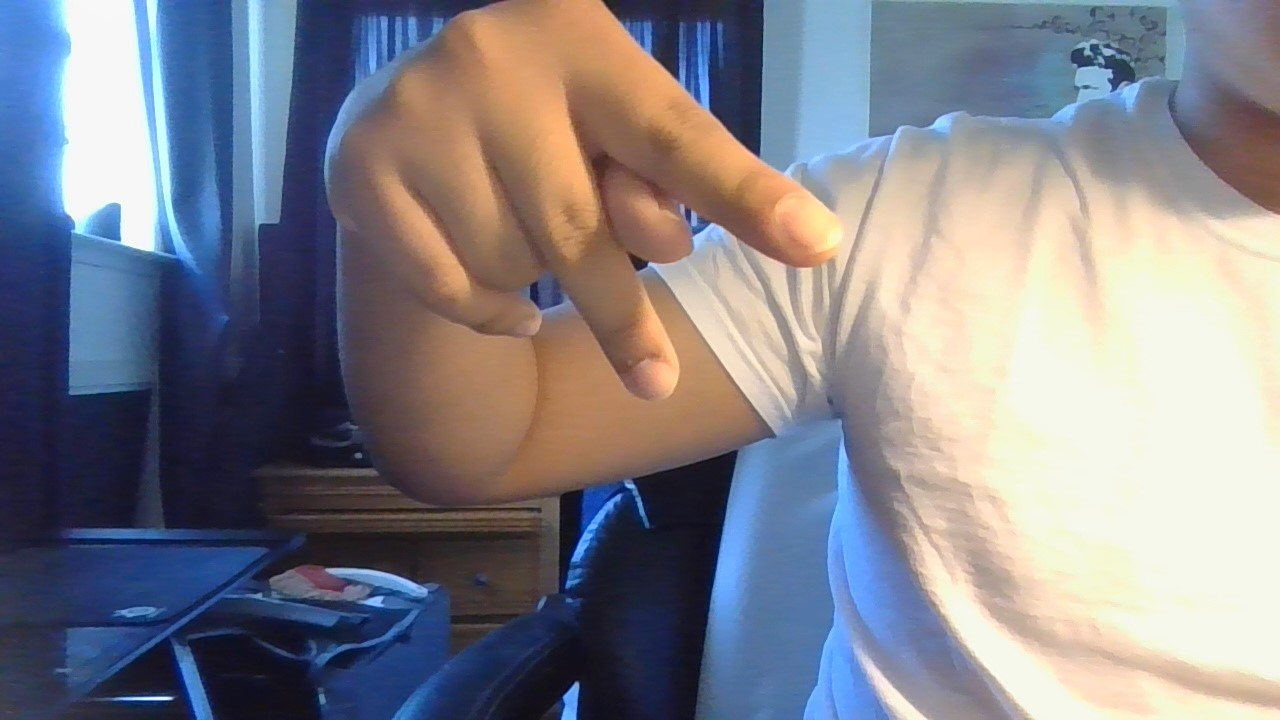p: (225, 10, 891, 414)
